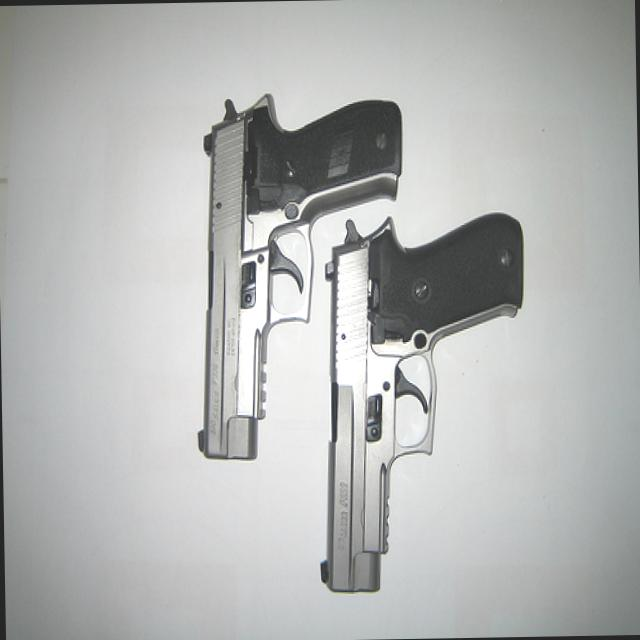handgun: (310, 210, 528, 591), (188, 87, 406, 458)
